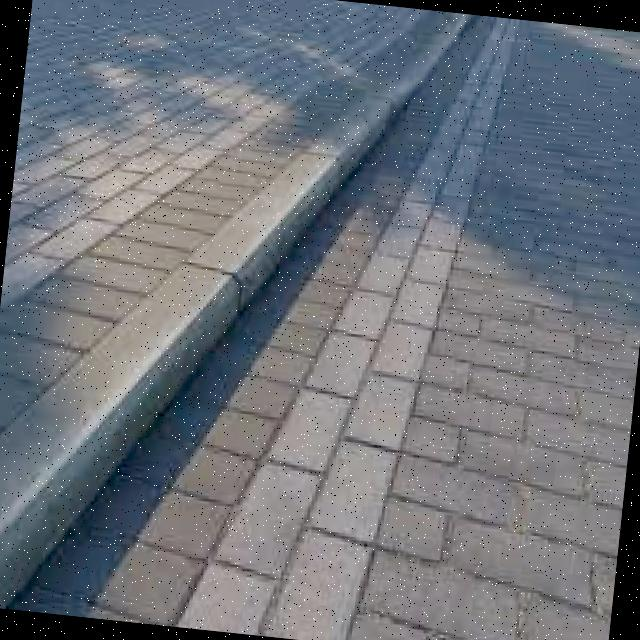curb: (1, 275, 210, 626), (142, 191, 304, 349), (245, 109, 400, 211)
